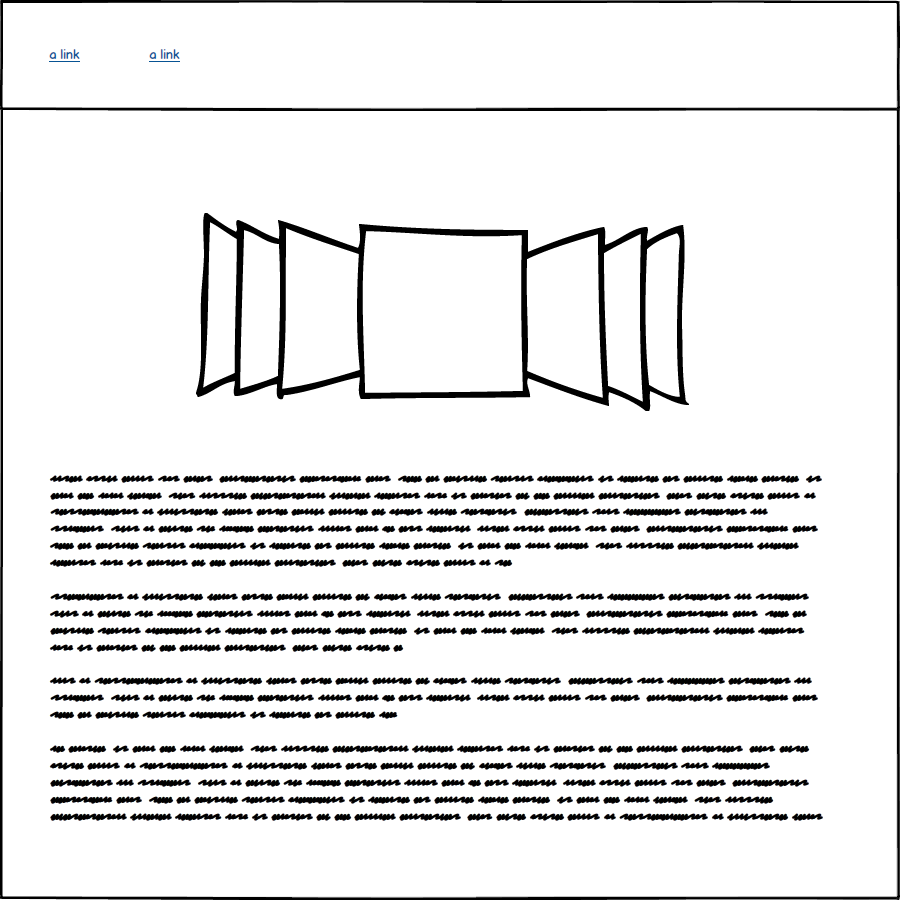navlink: (139, 38, 192, 71), (44, 44, 85, 63)
p: (44, 467, 839, 837)
slideshow: (179, 200, 713, 426)
